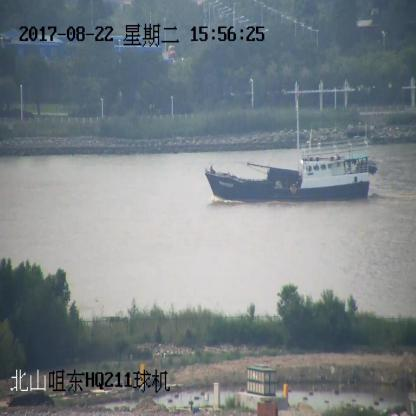Fishing Boat: (205, 94, 377, 200)
